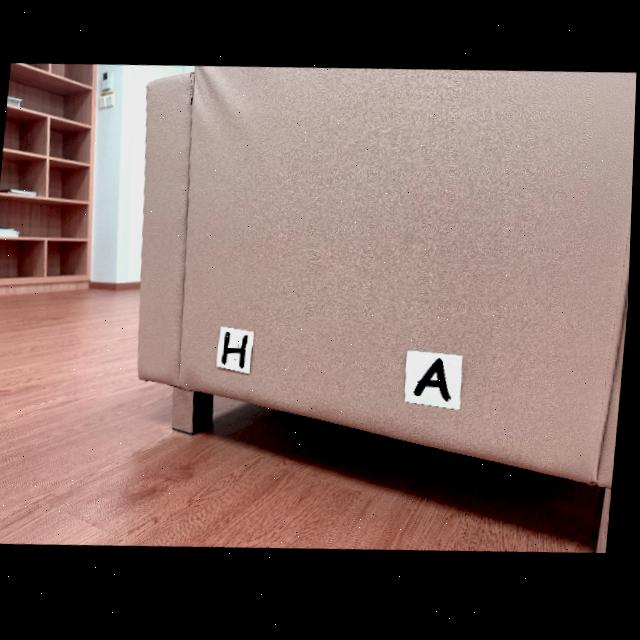A: (417, 363, 453, 404)
H: (224, 334, 250, 370)
